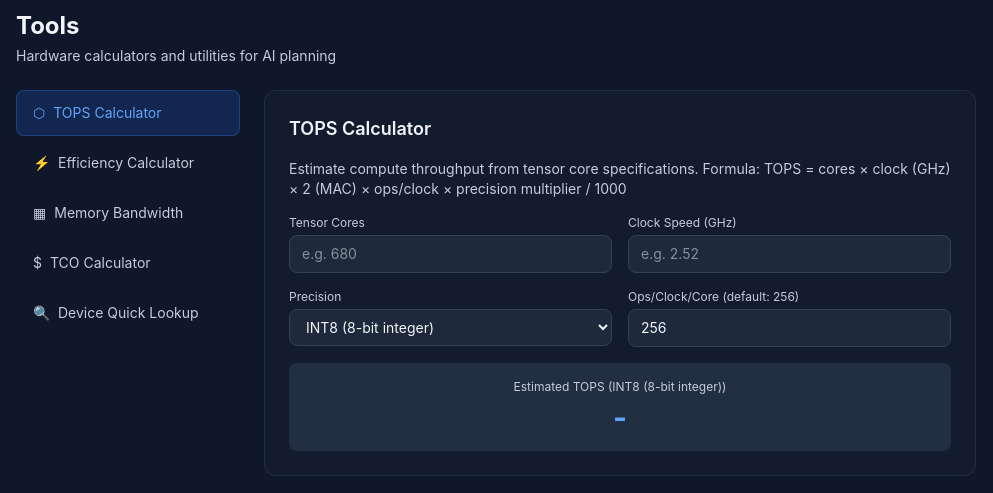
Test case: ToolsPage accessibility › lookup tool has aria-label on search when active
Click the tab with id "tool-tab-lookup".
click(128, 313)  # box [16, 290, 240, 336]
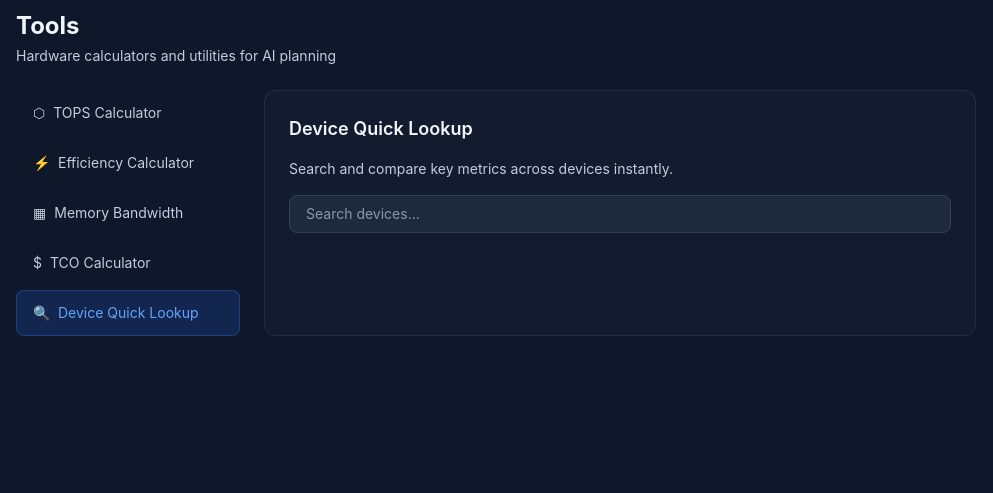
expect the field named "Search devices" is shown: met, box [289, 195, 951, 233]
